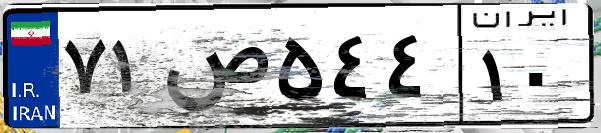0: (525, 38, 570, 115)
1: (475, 38, 525, 113), (110, 28, 158, 98)
4: (385, 28, 445, 110), (330, 28, 385, 110)
5: (270, 28, 330, 110)
7: (57, 26, 110, 100)
ص: (158, 20, 270, 120)
